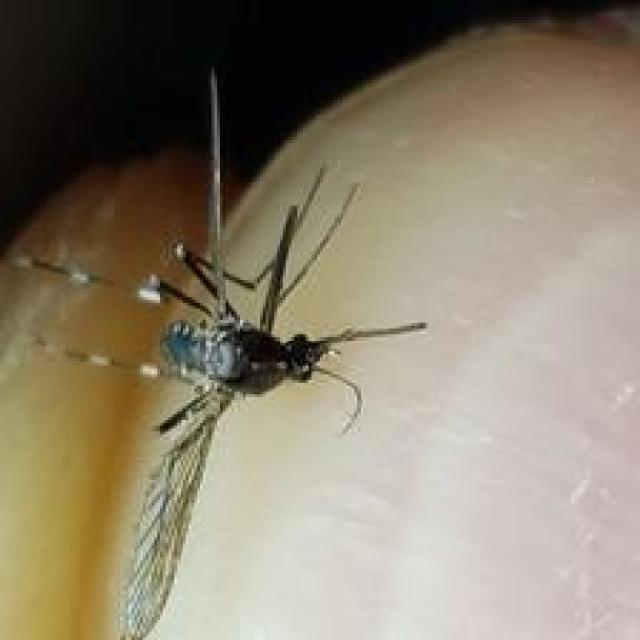Aedes albopictus: (8, 65, 428, 640)
